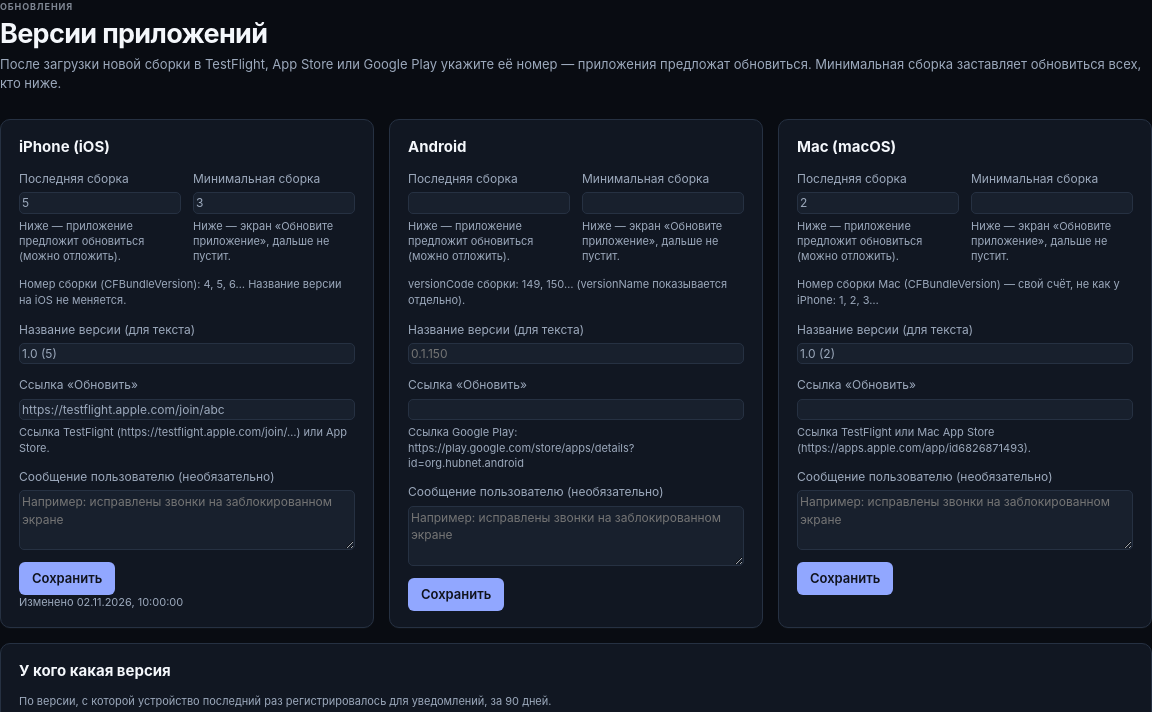
Test: app versions page › saves the edited policy, sending empty fields as null
Type "150" into the 2nd number field labelled "Последняя сборка". click: (489, 203)
box: [408,192,570,214]
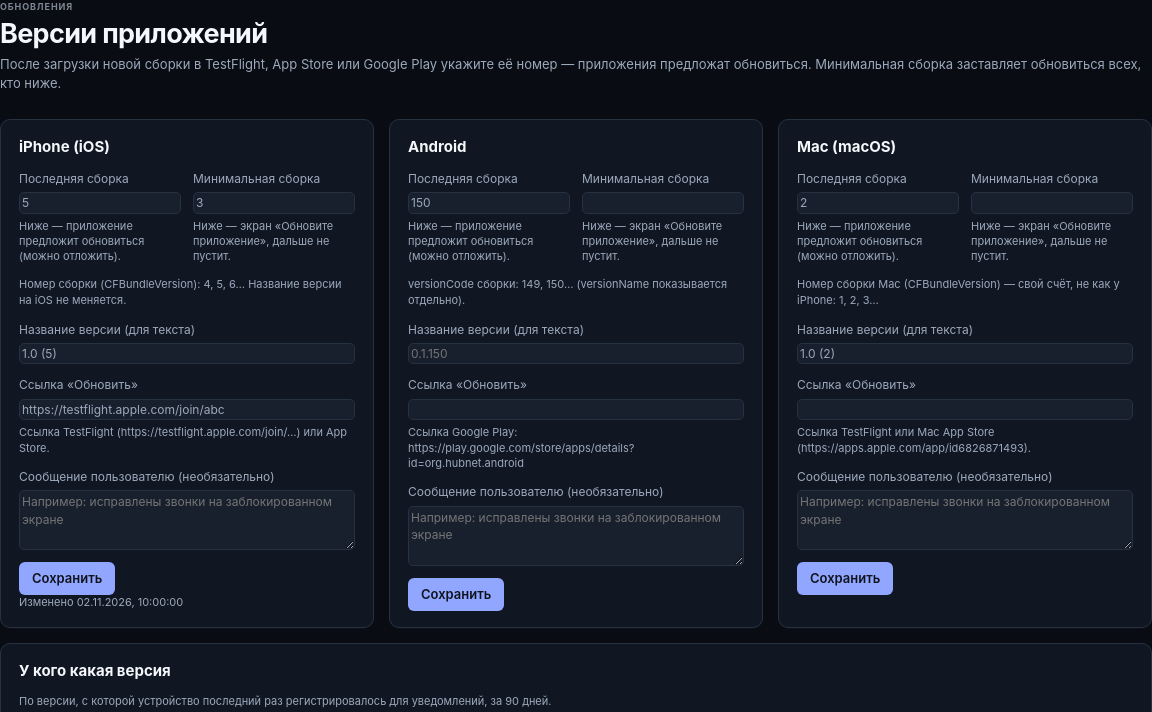
Click the 3rd button "Сохранить". click: (456, 594)
box: [408,578,504,611]
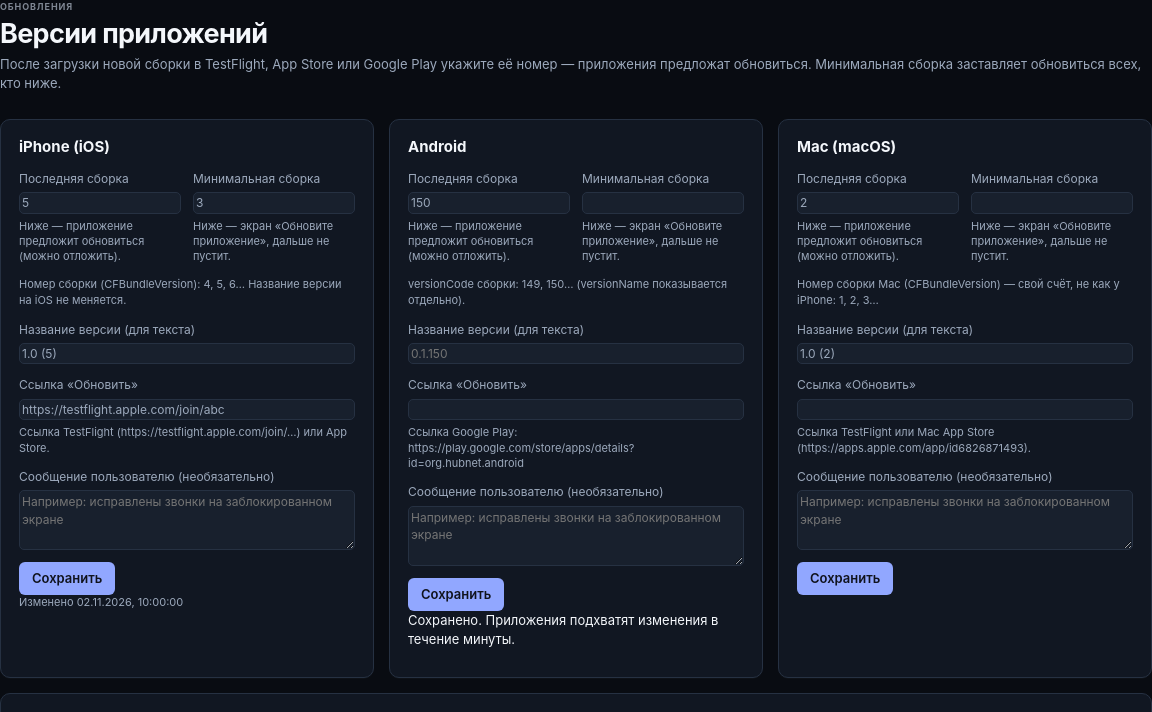
Result: the message shows "Сохранено" at [408,612,718,646]
